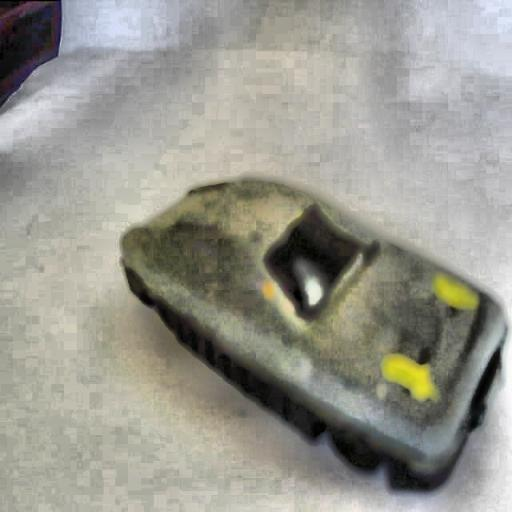normal_car: (116, 170, 510, 496)
